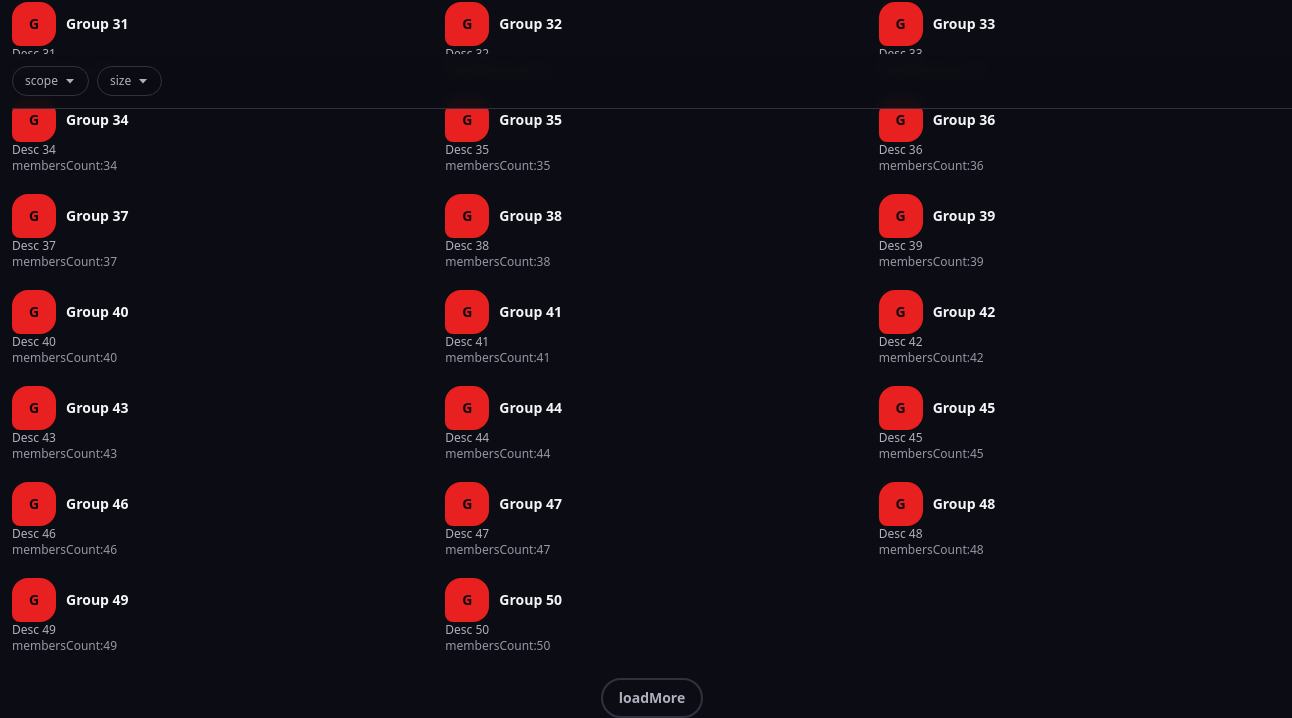
Test: DiscoverGroupsClient › shows "load more" and appends next page when full page returned
(page scrolled)
Click the button "loadMore": (652, 698) [601,678,703,717]
(page scrolled)
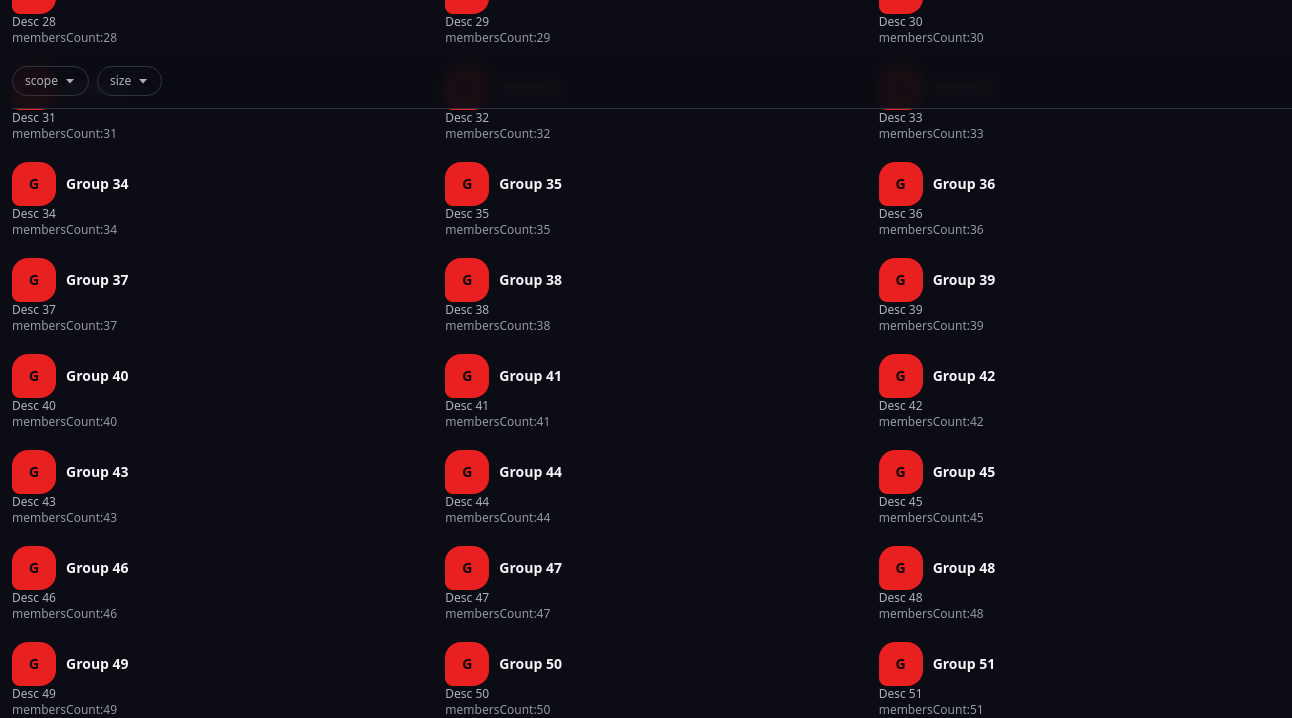
Now the text "Group 51" is shown, box [933,654,995,674]
